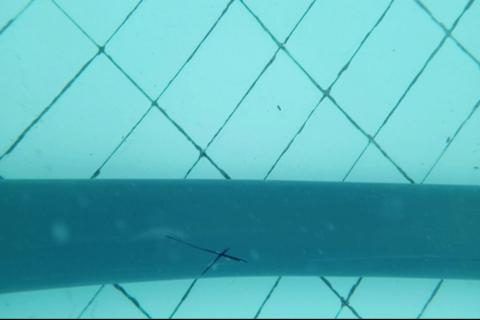keretakan: (164, 231, 245, 276)
